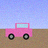vehicle: (5, 23, 32, 39)
